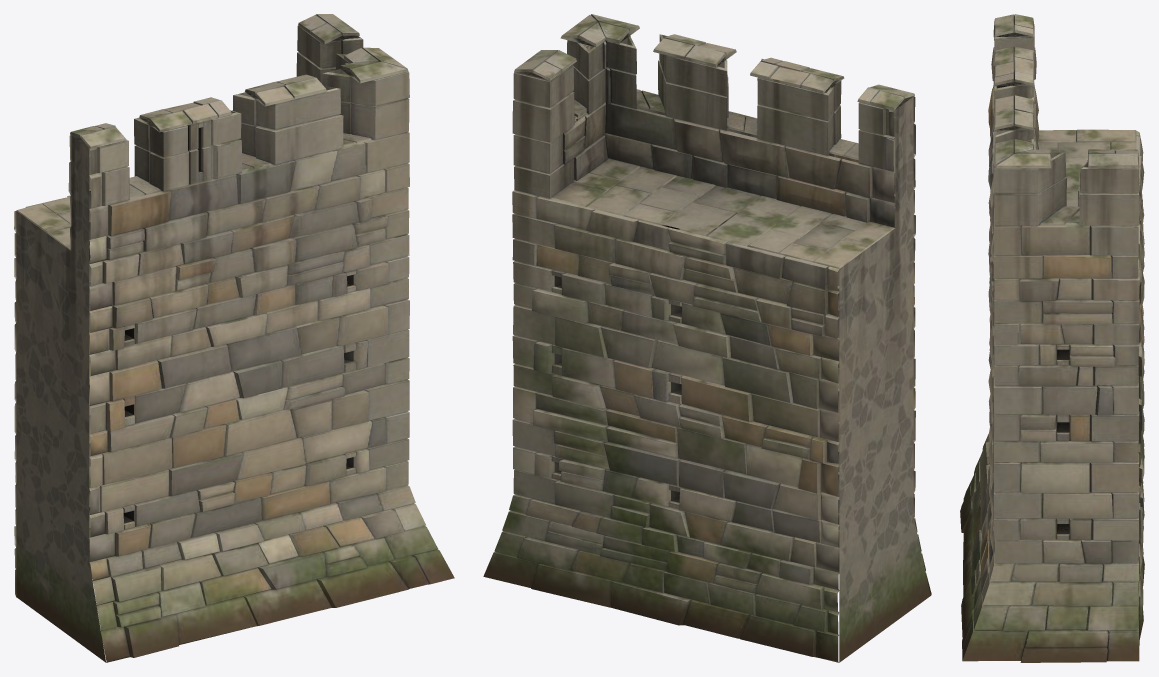
Rendered from wall_stone_end.glb.
The picture shows the model from 3 angles, left to right: view 1: azimuth 30°, elevation 25°; view 2: azimuth 150°, elevation 25°; view 3: azimuth 270°, elevation 25°; orthographic projection. The views are drawn at different scales.
Parts seen in each view (by area): view 1: wall_stone_end_LOD0; view 2: wall_stone_end_LOD0; view 3: wall_stone_end_LOD0.
Boxes of the visible parts, x1,y1,x2,y2 form: wall_stone_end_LOD0: (14, 14, 454, 662); wall_stone_end_LOD0: (483, 14, 931, 662); wall_stone_end_LOD0: (960, 14, 1144, 662).
Size of what is drawn, in the model's own units: 6.66 by 9.23 by 3.17.
1 material, 1 textured.
